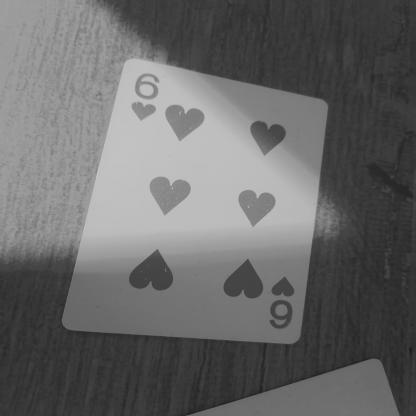6H: (122, 62, 176, 131), (267, 262, 304, 348)
